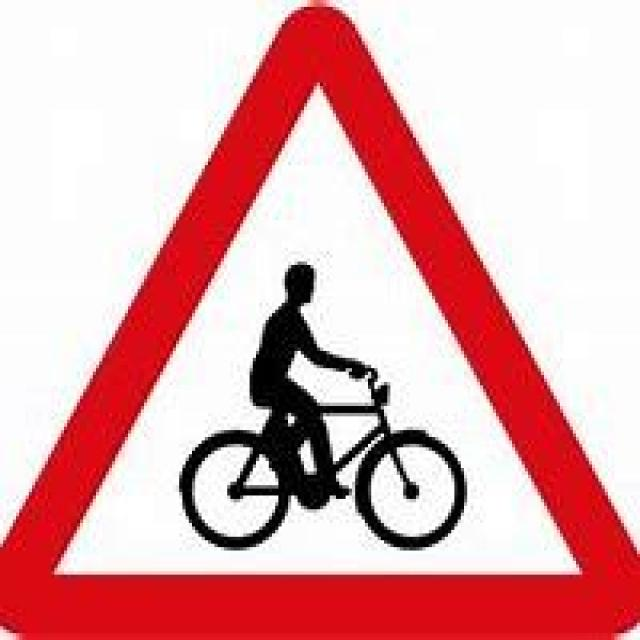cycle_crossing: (0, 0, 637, 637)
